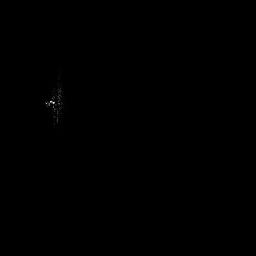ship: (44, 87, 64, 122)
